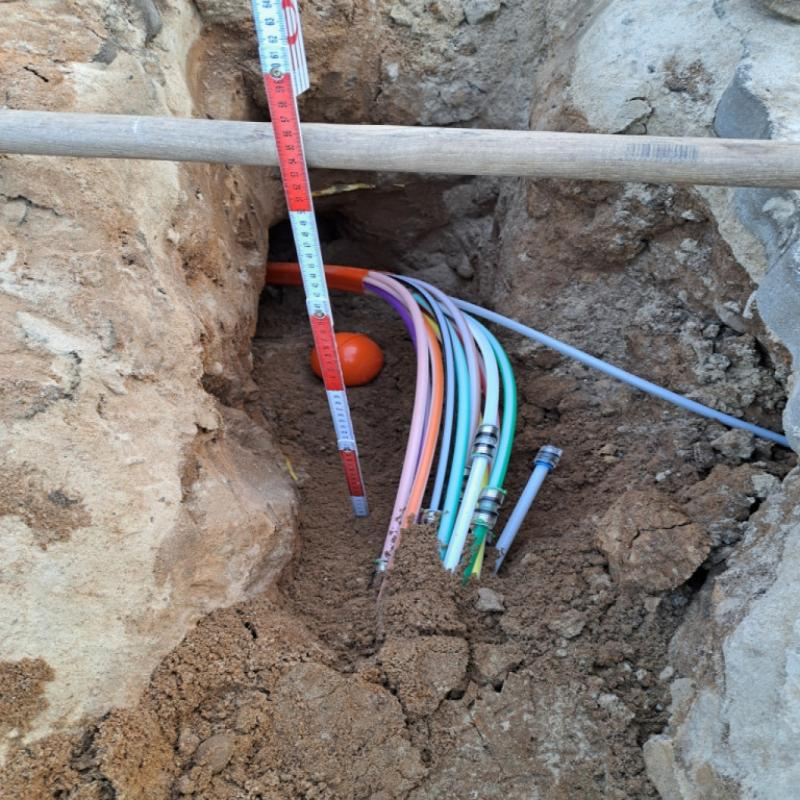Kugelmarker: (310, 332, 383, 385)
Orang-Speednetrohrchen: (267, 262, 498, 347)
